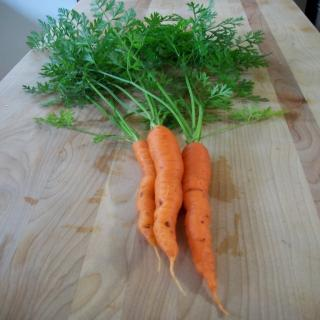Carrot: (32, 0, 190, 296), (184, 143, 228, 314)
